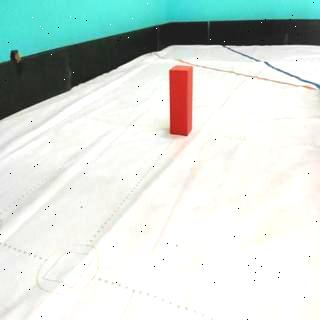redbox: (170, 64, 192, 136)
